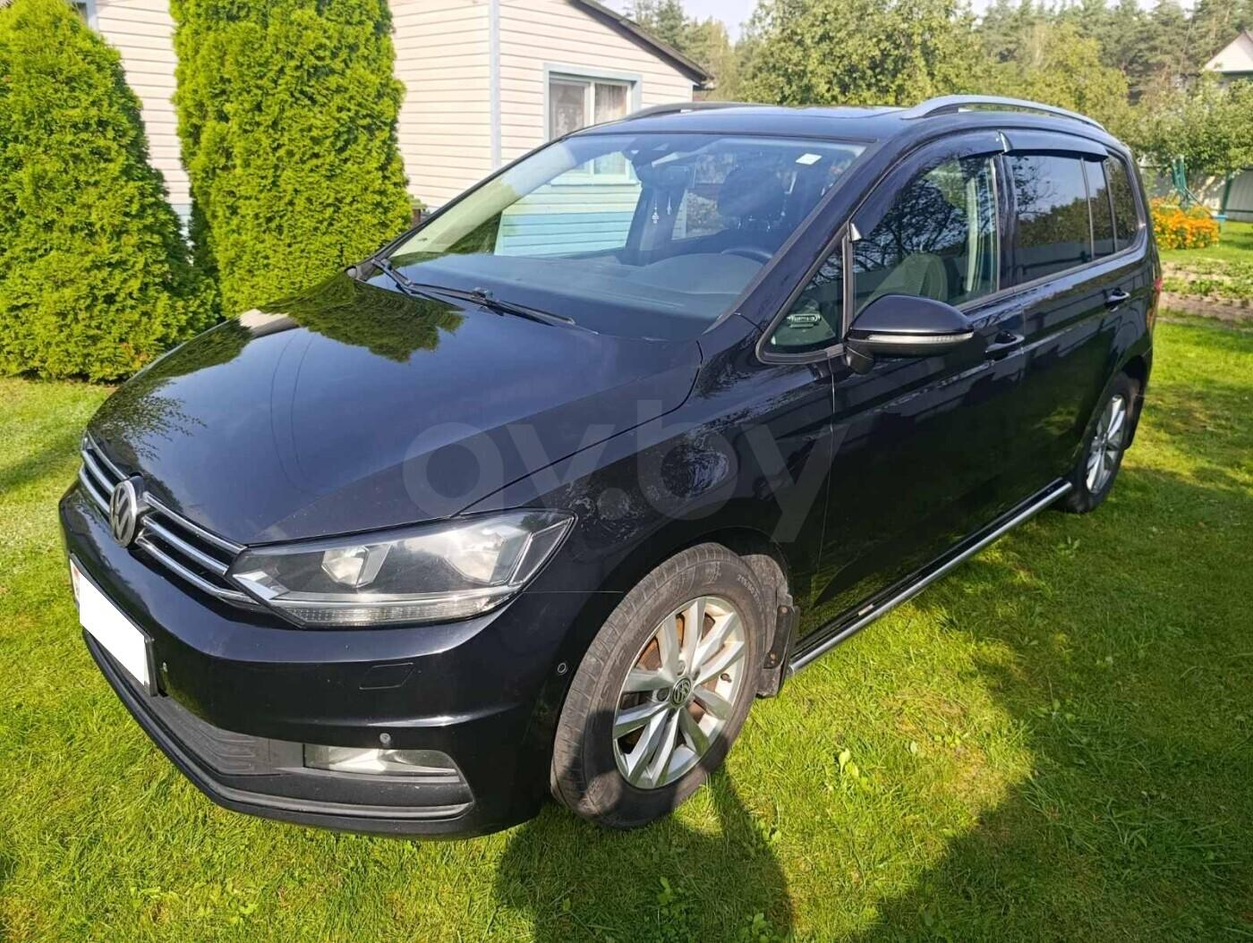Touran_2015: (55, 98, 1161, 855)
